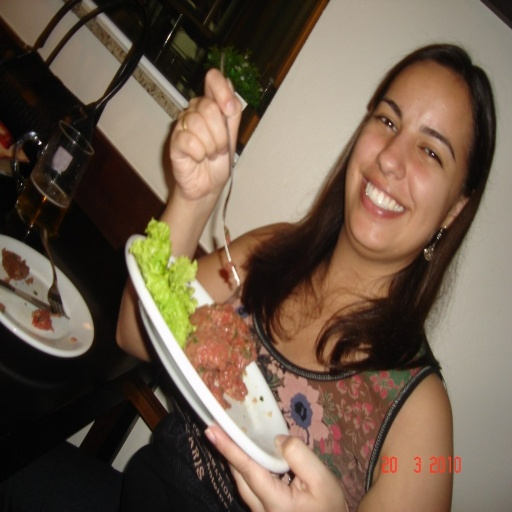hand: (157, 72, 249, 216), (203, 424, 347, 511)
